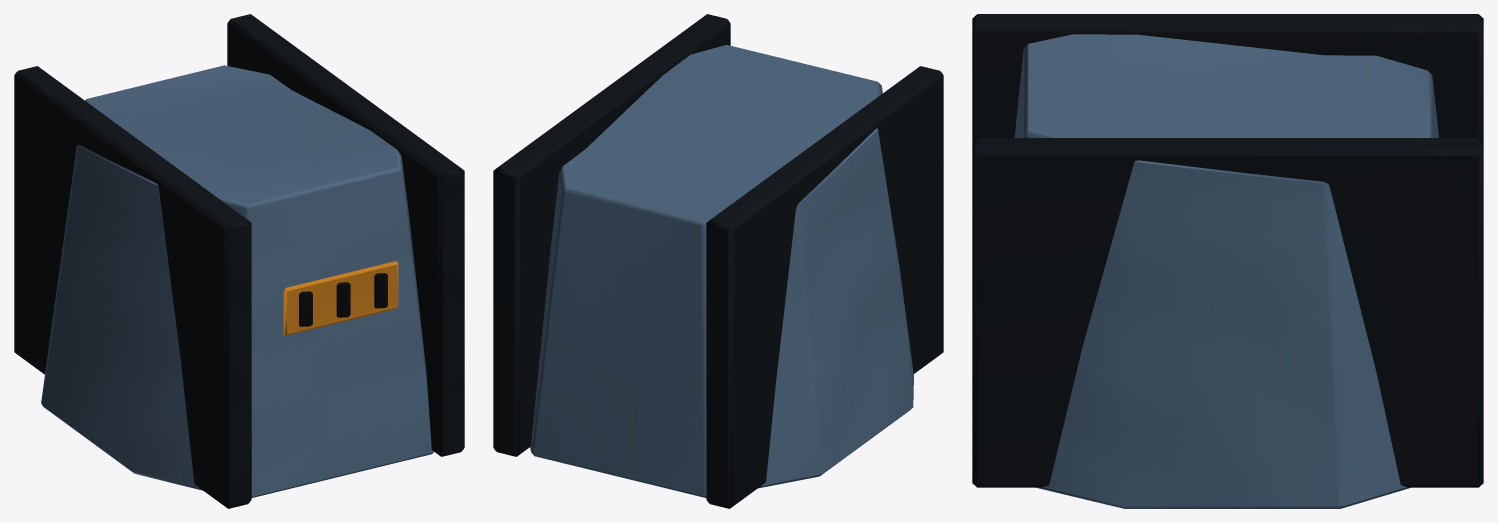
File: Freight_Container.fbx
3 views of the same model, side by side, from view 1: azimuth 30°, elevation 25°; view 2: azimuth 150°, elevation 25°; view 3: azimuth 270°, elevation 25° (orthographic). The views are drawn at different scales.
Visible parts, largest first — view 1: Freight_Container; view 2: Freight_Container; view 3: Freight_Container.
Part boxes in pixels (left/top/right/bottom): Freight_Container: left=14, top=14, right=464, bottom=508; Freight_Container: left=493, top=14, right=943, bottom=508; Freight_Container: left=972, top=14, right=1483, bottom=508.
Size of the model in its own units: 1.45 by 1.31 by 1.78.
